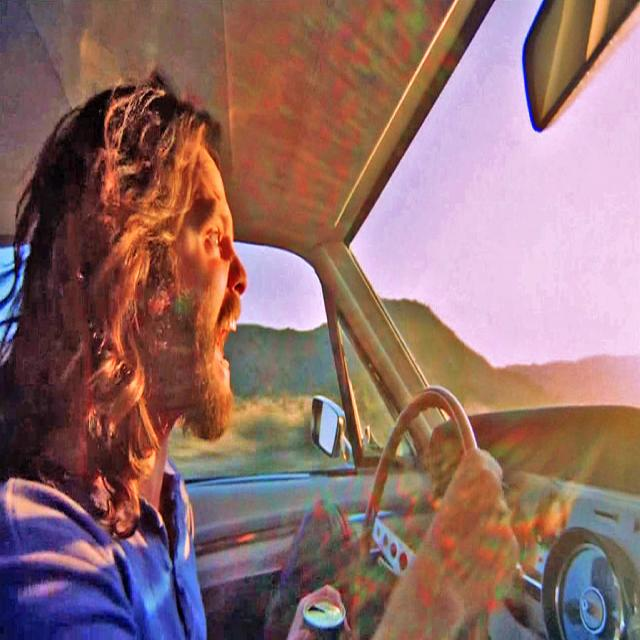other: (0, 0, 639, 639), (531, 496, 640, 636)
